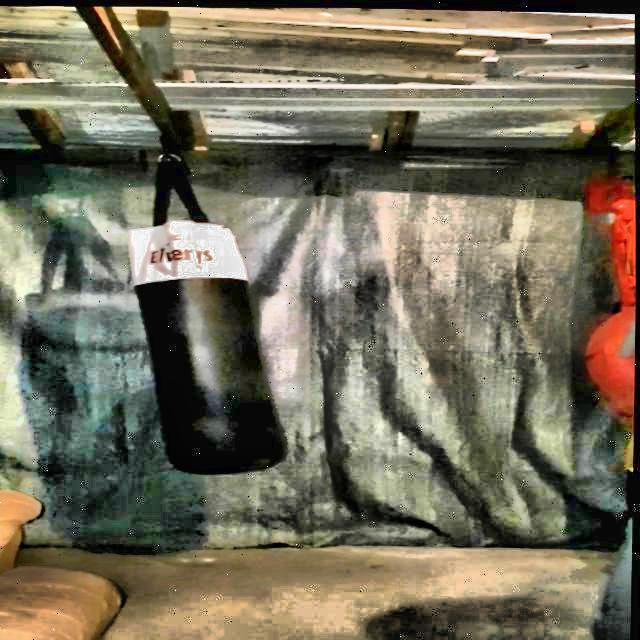boxing-bag: (126, 126, 296, 482)
